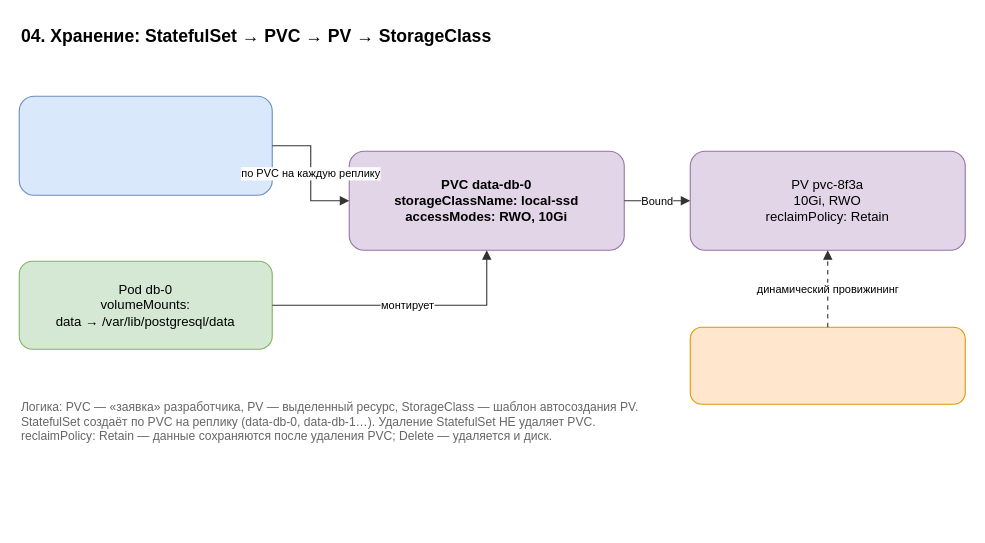
Image size: 985x543. Some labels were removed from this diagram. The shapes that lost their labels are listed below. From the top down, each one's centre as x and y in pixels, then its label:
At pixel 145 145: "StatefulSet db volumeClaimTemplates: - data: RWO, 10Gi".
At pixel 827 365: "StorageClass local-ssd provisioner: ebs.csi.aws.com".
